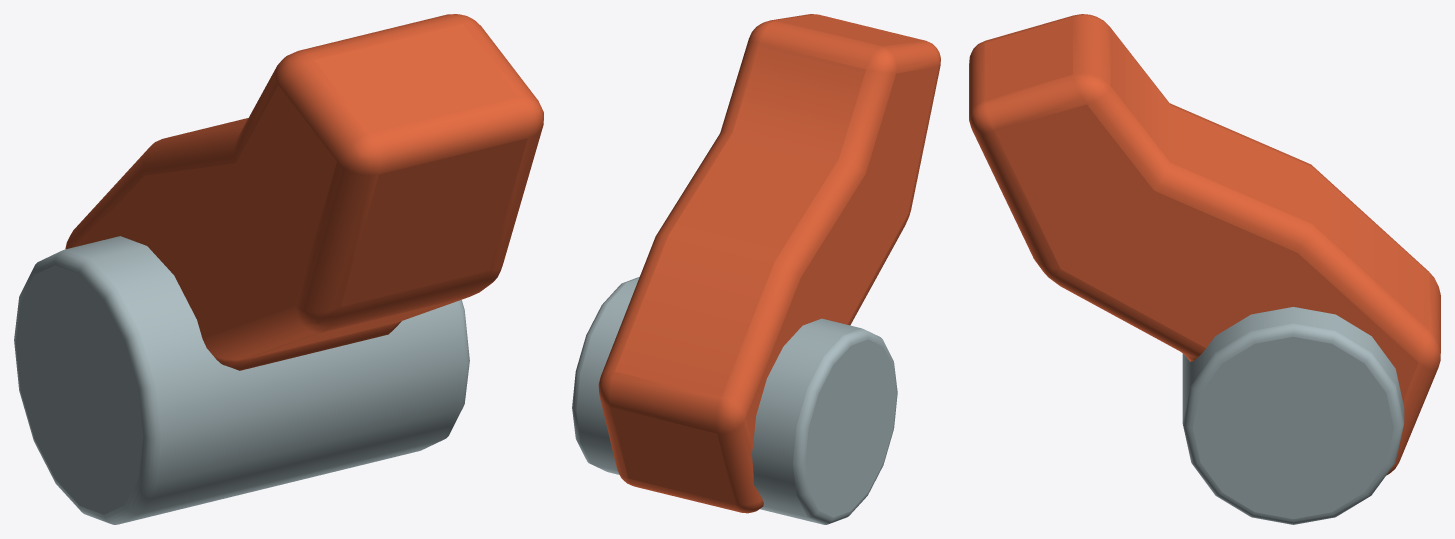
Rendered from SM_Mk2_GuardLatch_R.fbx.
3 renders of one model, left to right at view 1: azimuth 30°, elevation 25°; view 2: azimuth 150°, elevation 25°; view 3: azimuth 270°, elevation 25°, orthographic. The views are drawn at different scales.
Parts seen in each view (by area): view 1: SM_Mk2_GuardLatch_R; view 2: SM_Mk2_GuardLatch_R; view 3: SM_Mk2_GuardLatch_R.
Boxes of the visible parts, x1=… form: SM_Mk2_GuardLatch_R: x1=14, y1=14, x2=543, y2=524; SM_Mk2_GuardLatch_R: x1=572, y1=14, x2=940, y2=524; SM_Mk2_GuardLatch_R: x1=969, y1=14, x2=1440, y2=524.
Bounding box in the file's own units: 4.8 × 7.67 × 7.6.
